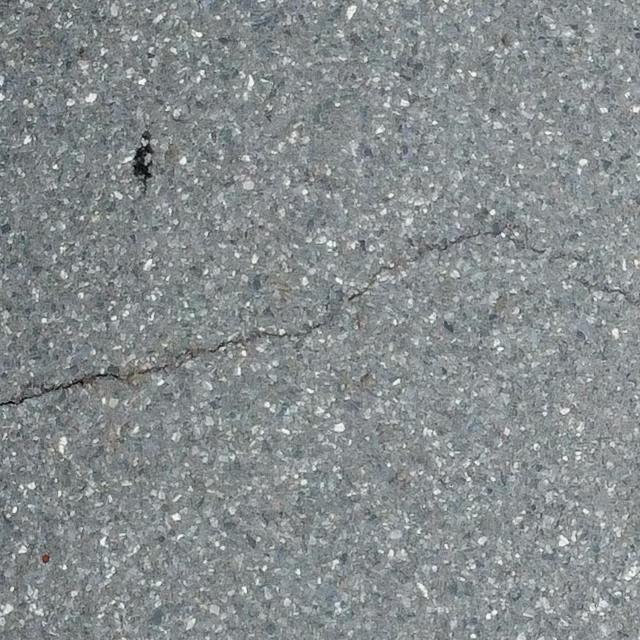TransverseCrack: (1, 230, 584, 407), (572, 275, 640, 311)
